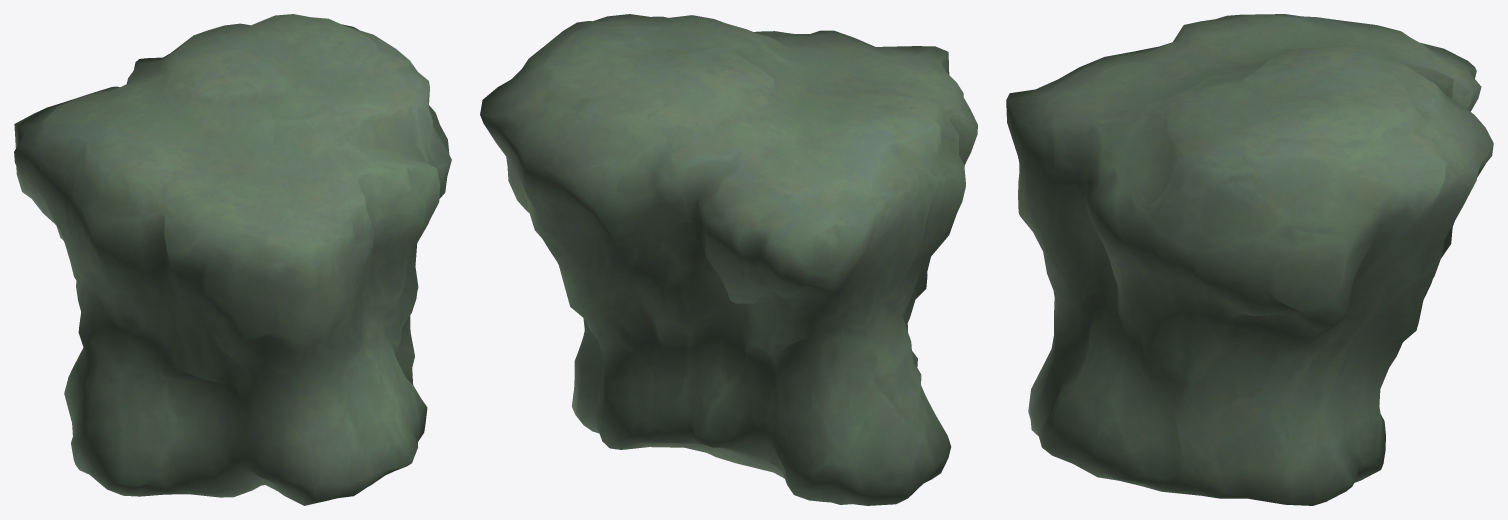
The model's file is Area_Xm_Stone_YHLZ_Full_Cave_L_02.fbx.
3 views of the same model, side by side, from view 1: azimuth 30°, elevation 25°; view 2: azimuth 150°, elevation 25°; view 3: azimuth 270°, elevation 25° (orthographic). The views are drawn at different scales.
Visible parts, largest first — view 1: Area_Xm_Stone_YHLZ_Full_Cave_L_02_Lod0; view 2: Area_Xm_Stone_YHLZ_Full_Cave_L_02_Lod0; view 3: Area_Xm_Stone_YHLZ_Full_Cave_L_02_Lod0.
Part boxes in pixels (x1=…): Area_Xm_Stone_YHLZ_Full_Cave_L_02_Lod0: x1=14, y1=14, x2=451, y2=505; Area_Xm_Stone_YHLZ_Full_Cave_L_02_Lod0: x1=480, y1=14, x2=977, y2=505; Area_Xm_Stone_YHLZ_Full_Cave_L_02_Lod0: x1=1006, y1=14, x2=1493, y2=505.
Bounding box in the file's own units: 55.93 × 54.16 × 57.61.
1 material, 1 textured.
